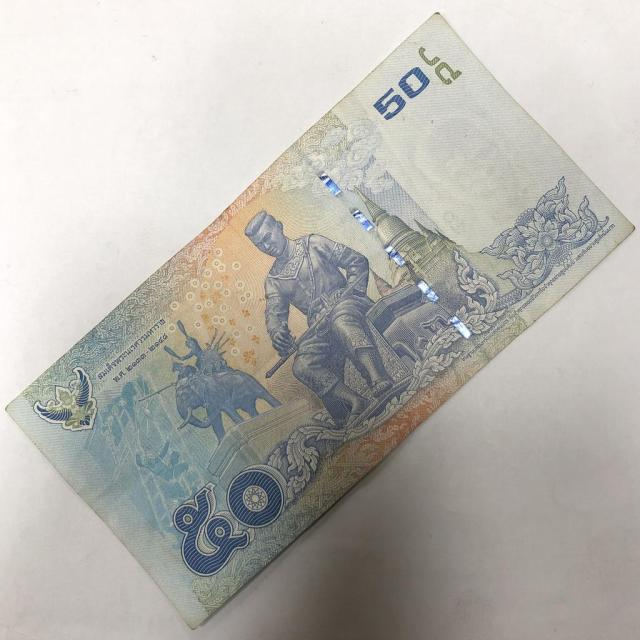THAI50: (8, 14, 634, 628)
